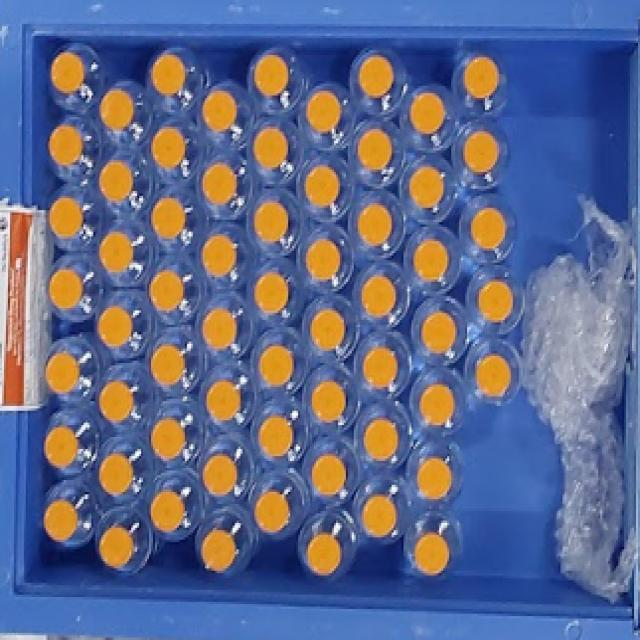vial: (462, 56, 500, 99), (361, 494, 398, 538), (358, 54, 395, 98), (201, 529, 238, 572), (201, 162, 238, 205), (252, 126, 289, 169), (362, 345, 398, 389), (478, 279, 514, 323), (305, 237, 341, 281), (421, 311, 458, 353), (201, 234, 238, 276), (412, 239, 449, 281), (414, 532, 450, 575), (254, 490, 290, 533), (150, 418, 186, 461), (258, 415, 294, 458), (149, 269, 185, 312), (304, 164, 340, 207), (356, 128, 392, 171), (409, 92, 445, 135), (306, 532, 341, 576), (99, 524, 134, 568), (99, 452, 134, 496), (206, 378, 241, 422), (254, 270, 289, 314), (409, 165, 444, 209), (306, 90, 341, 134), (416, 457, 452, 499), (419, 383, 455, 425), (202, 454, 238, 496), (202, 308, 238, 350), (310, 308, 346, 350), (470, 207, 506, 249), (202, 90, 238, 132), (150, 53, 186, 95), (99, 89, 135, 131), (364, 418, 399, 461), (254, 53, 289, 96), (311, 454, 346, 496), (150, 490, 185, 532), (44, 425, 79, 467), (99, 380, 134, 422), (45, 351, 80, 393), (150, 344, 185, 386), (311, 380, 346, 422), (259, 344, 294, 386), (361, 275, 396, 317), (49, 267, 84, 309), (254, 200, 289, 242), (151, 197, 186, 239), (151, 126, 186, 168), (464, 131, 499, 173), (50, 51, 85, 93), (44, 499, 78, 542), (98, 305, 132, 348), (358, 203, 392, 246), (48, 125, 84, 165), (99, 231, 134, 272), (49, 197, 84, 237), (478, 354, 511, 396), (99, 159, 132, 201)
